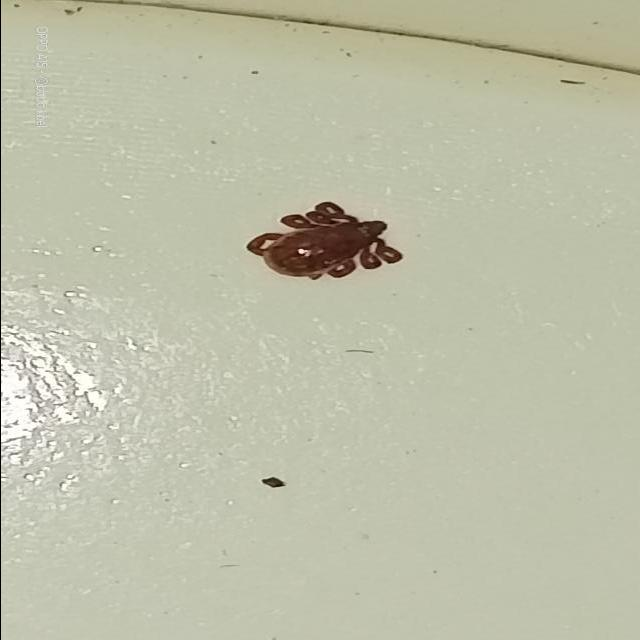Rhipicephalus Sanguineus-M: (244, 200, 401, 281)
